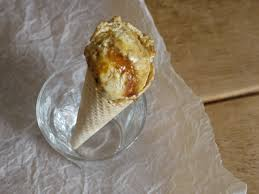ice-cream: (84, 17, 153, 97)
